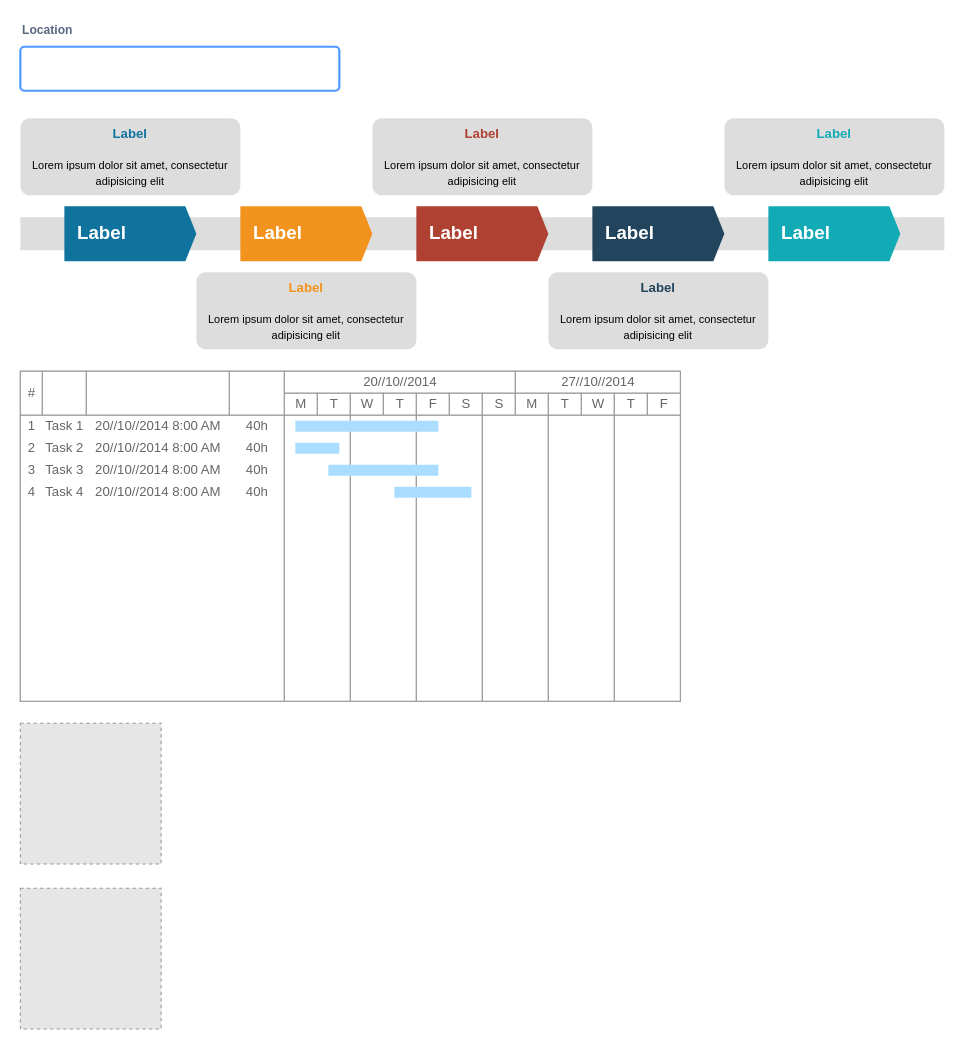
Some shapes in this 963 by 1048 pixel diagram are drawn without their labels. Grey dashed boxes stand in for pictures. The centre of each missing label's shape, as x and y in pixels:
"Effort" goes at [256,392].
"Start" goes at [157,392].
"Task" goes at [63,392].
